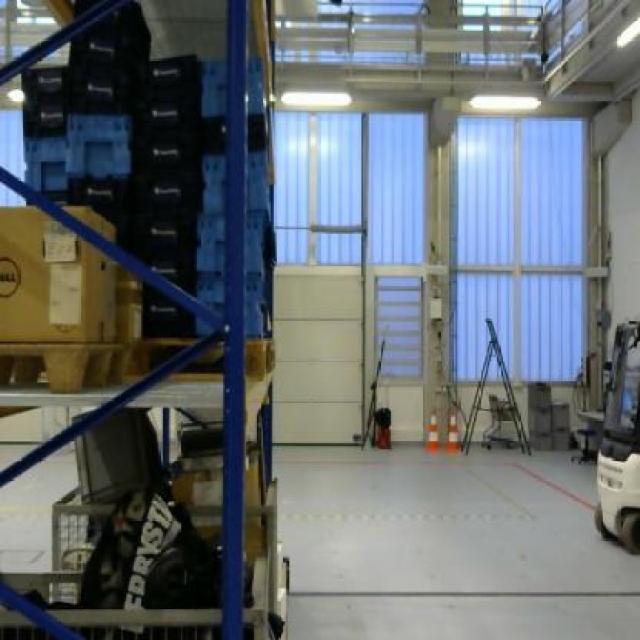box: (1, 205, 118, 342)
